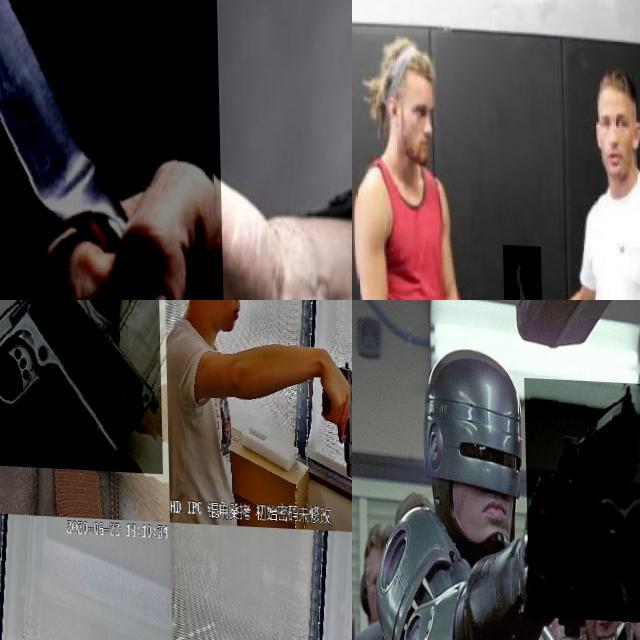-: (0, 0, 222, 300), (501, 241, 541, 300)
gun-knife-thesis - v11 Yolov5 augmented: (523, 374, 640, 618), (0, 300, 161, 471), (321, 349, 352, 473)
